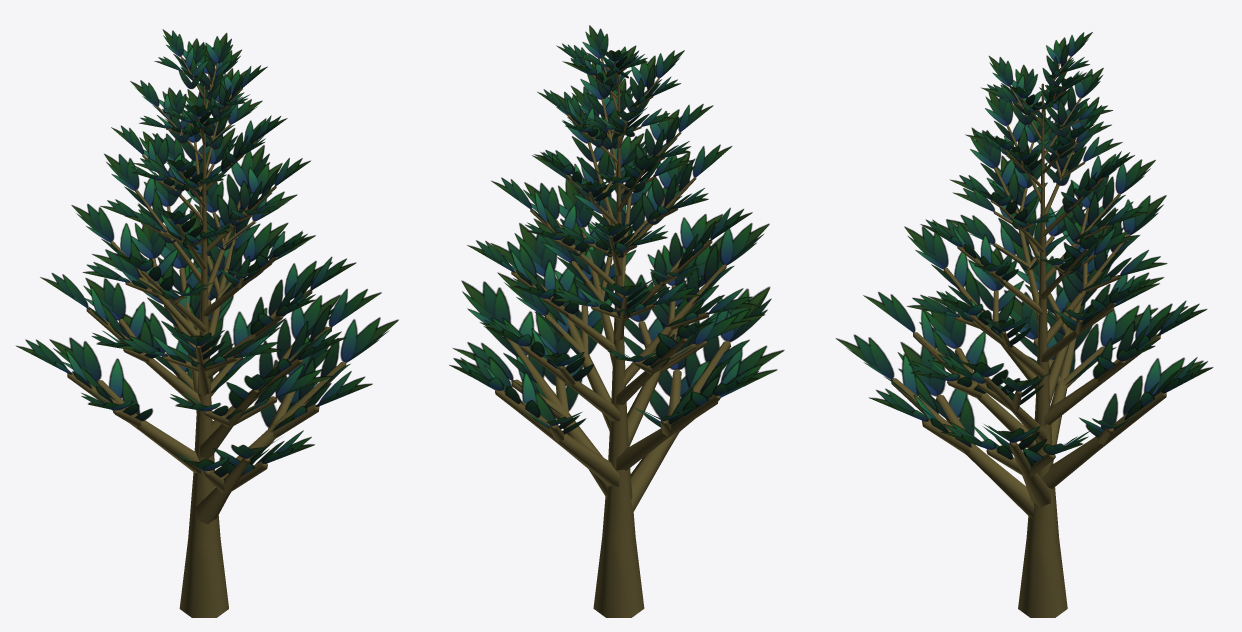
Rendered from poplar-green3.glb.
3 views of the same model, side by side, from view 1: azimuth 30°, elevation 25°; view 2: azimuth 150°, elevation 25°; view 3: azimuth 270°, elevation 25° (orthographic). The views are drawn at different scales.
Parts seen in each view (by area): view 1: leaf, bark; view 2: leaf, bark; view 3: leaf, bark.
Boxes of the visible parts, x1=… form: leaf: x1=16, y1=29, x2=398, y2=480; bark: x1=67, y1=56, x2=346, y2=617; leaf: x1=449, y1=25, x2=784, y2=434; bark: x1=495, y1=57, x2=730, y2=617; leaf: x1=835, y1=32, x2=1213, y2=466; bark: x1=891, y1=56, x2=1166, y2=617.
Size of the model in its own units: 2.52 by 4.09 by 2.53.
2 materials, 1 textured.
